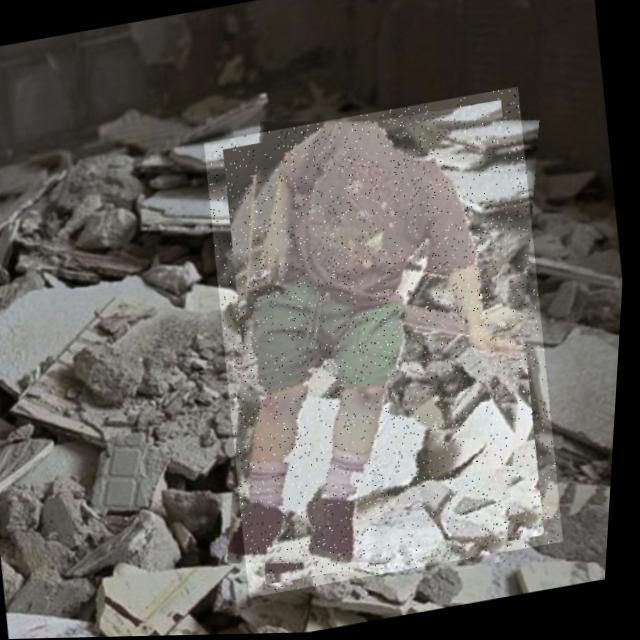Person in Rubble: (185, 88, 591, 600)
